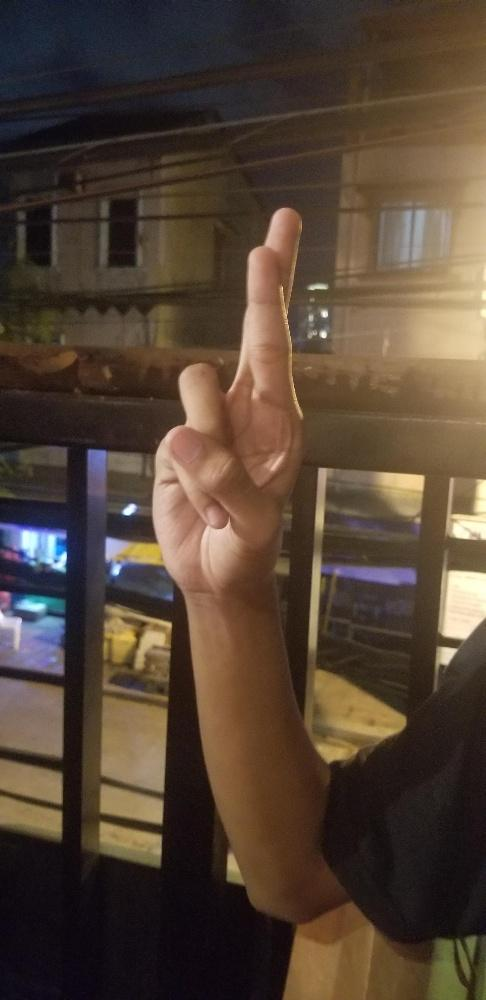r: (150, 204, 307, 595)
